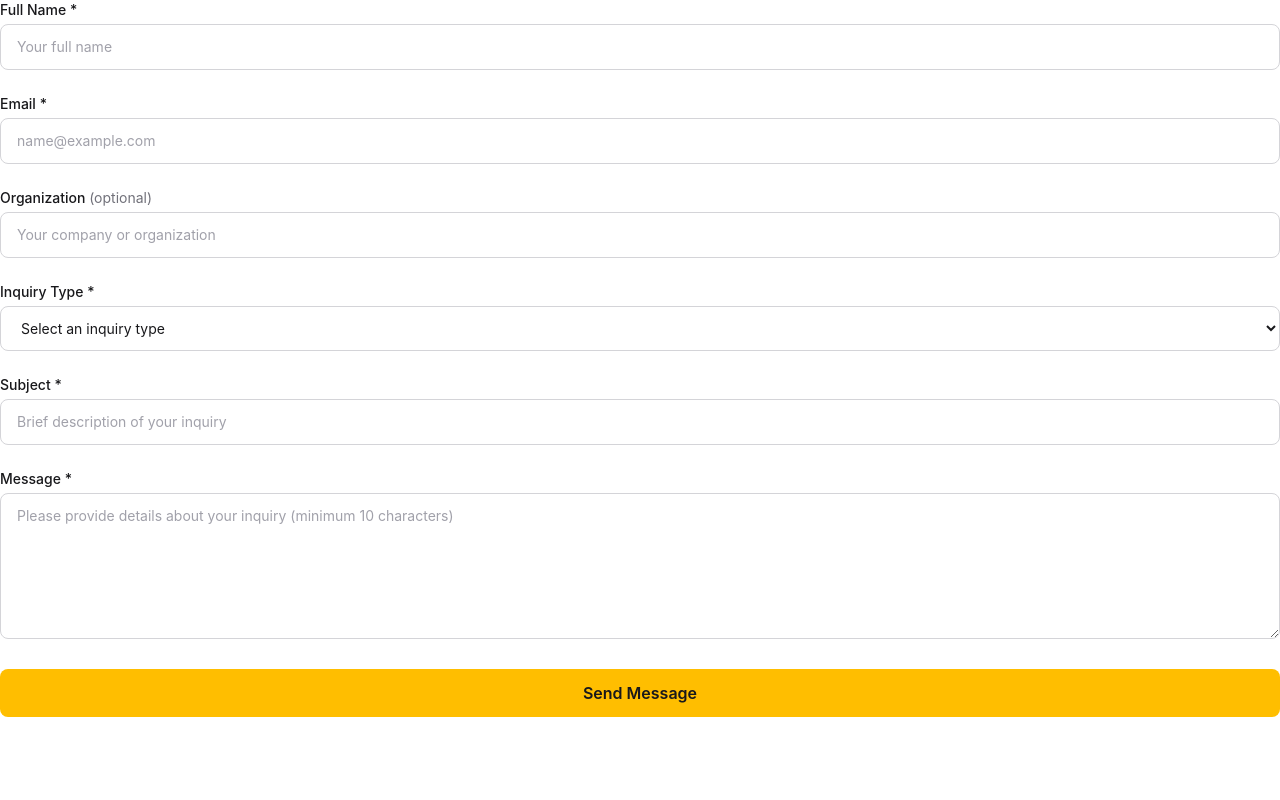
it: closes the success modal and resets the form
Type "Ada Lovelace" into the field labelled "Full Name *".
click(640, 47); type("Ada Lovelace")  # box [0,24,1279,70]
Type "ada@example.com" into the field labelled "Email *".
click(640, 141); type("ada@example.com")  # box [0,118,1279,164]
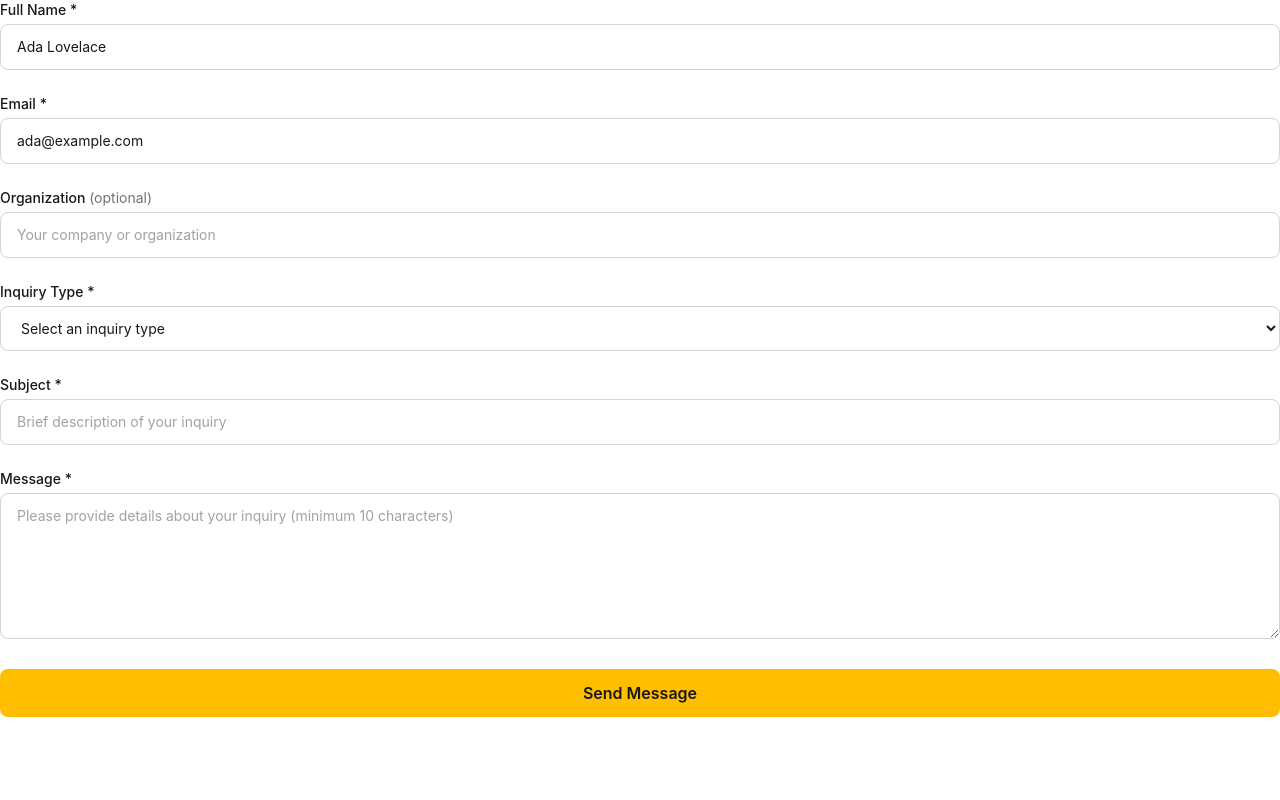
Select "General Inquiry" in the dropdown labelled "Inquiry Type *" at (640, 328), box [0,306,1279,351]
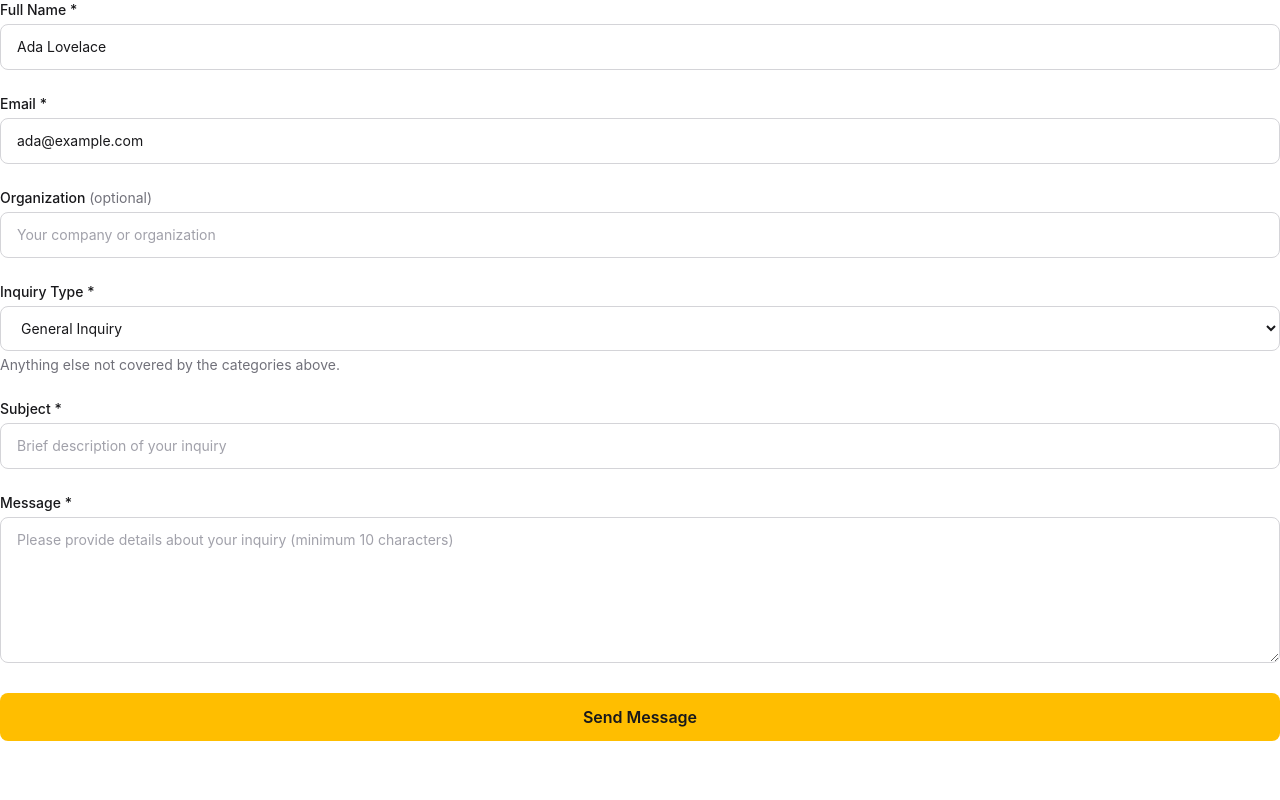
Type "Hi" into the field labelled "Subject *".
click(640, 446); type("Hi")  # box [0,423,1279,469]
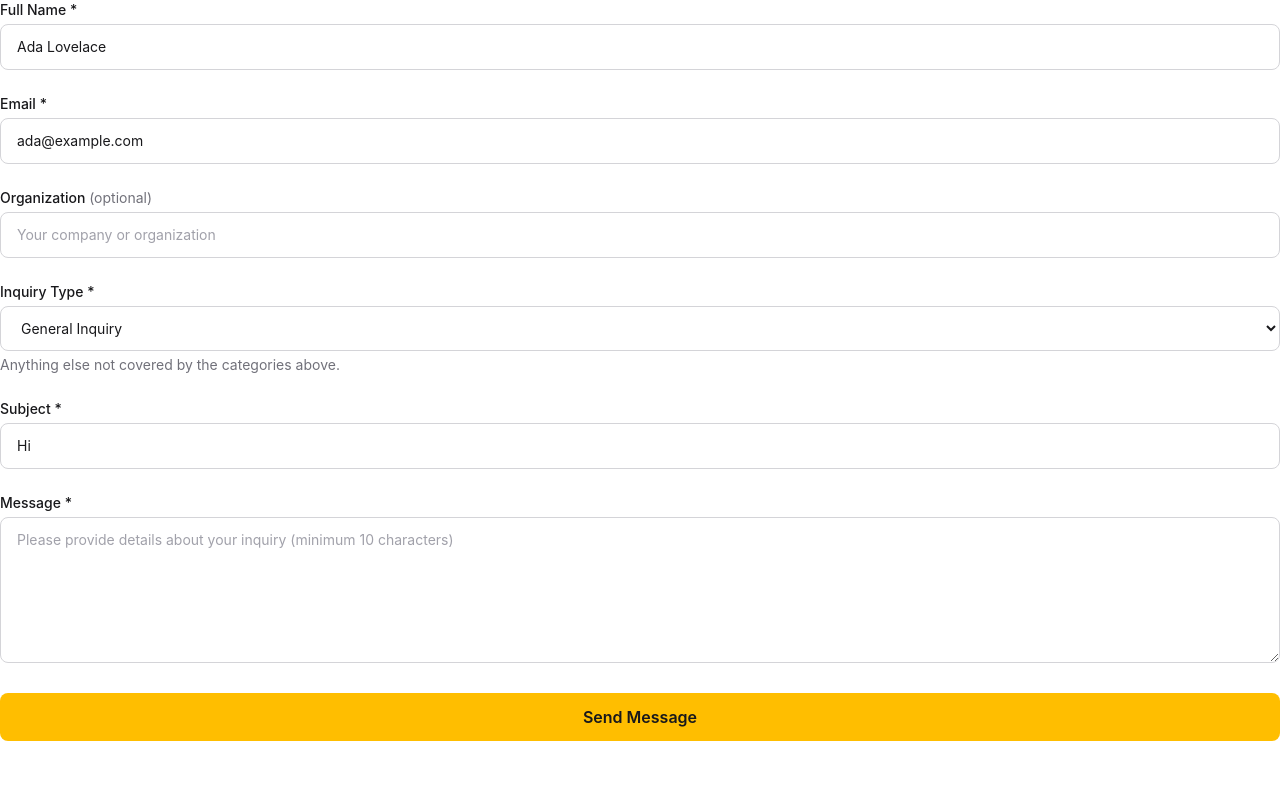
Replace the text in the text box labelled "Message *" with "This is a long enough message." at (640, 590), box [0,517,1279,663]
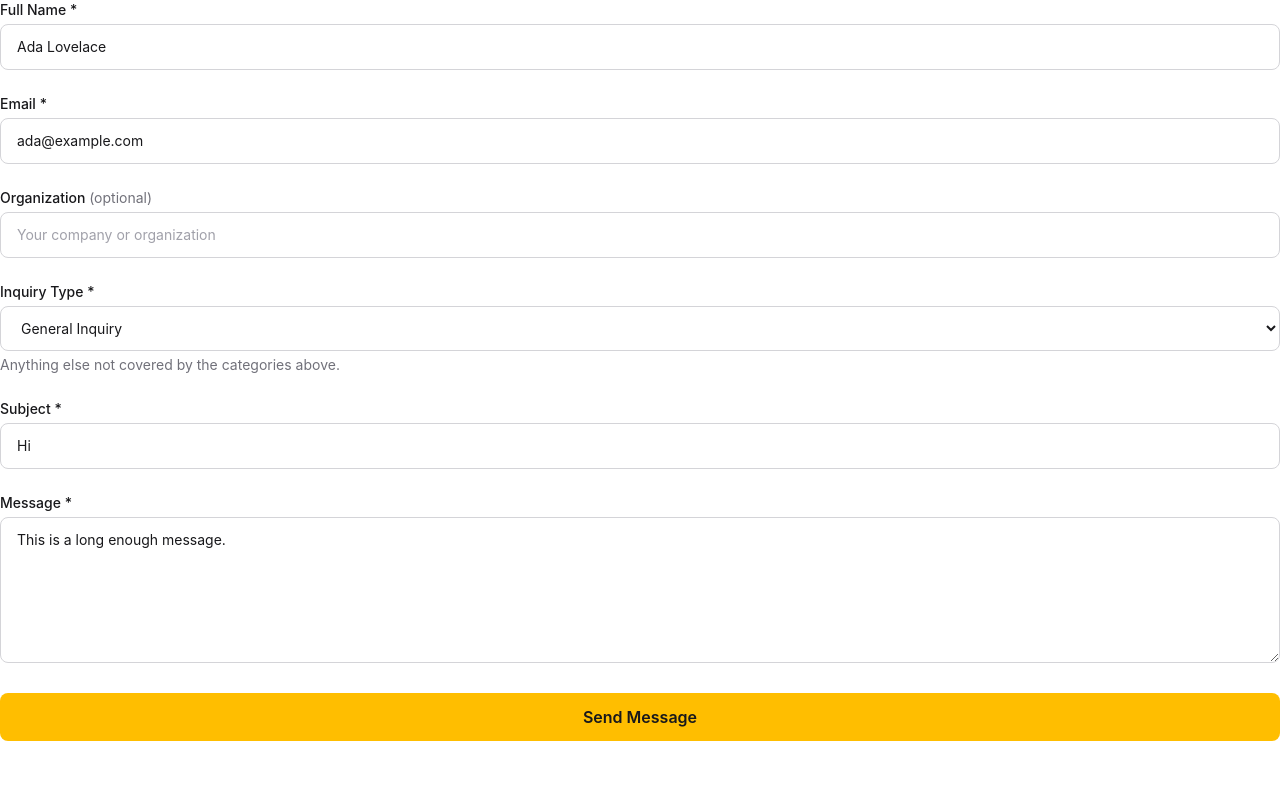
Click the button "Send Message".
click(640, 717)  # box [0,693,1279,741]
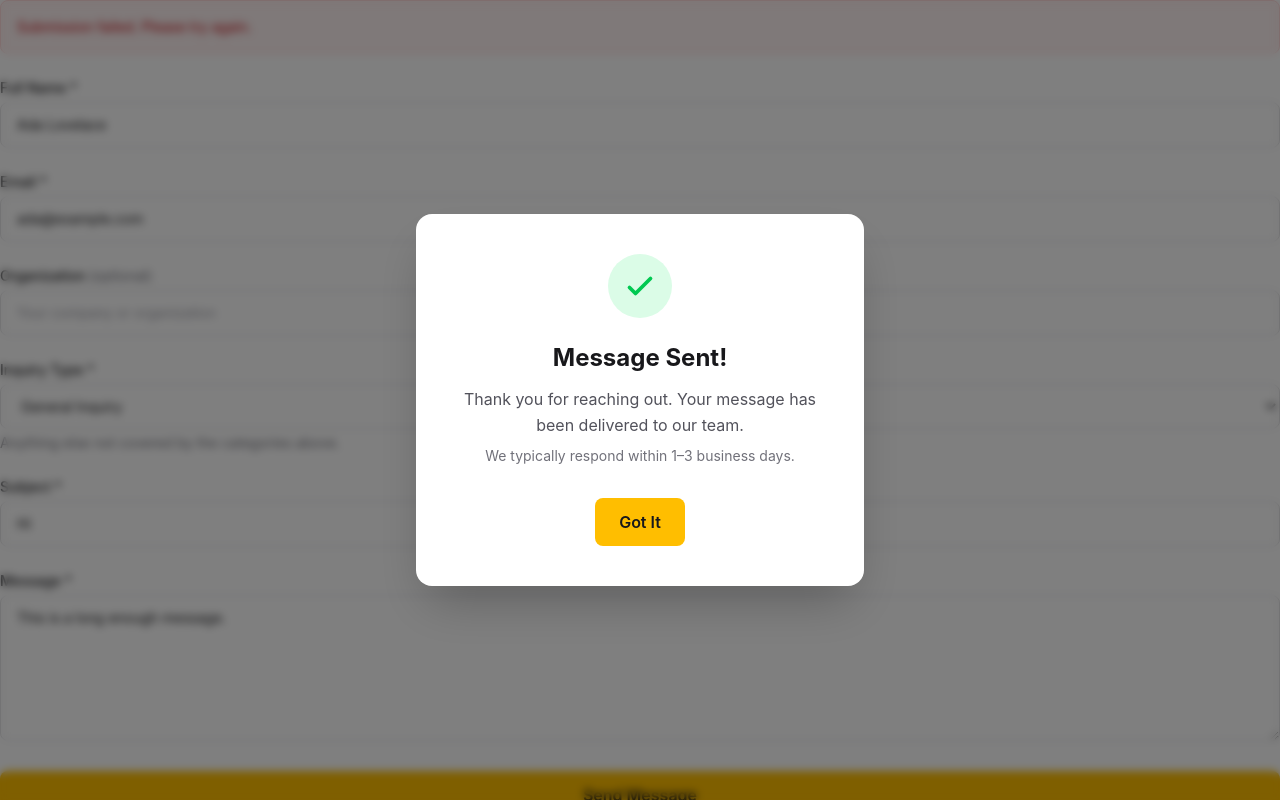
Expected: the heading "Message Sent!" is shown, [553,343,727,372]
Click the button "Got It".
click(640, 522)  # box [595,498,685,546]
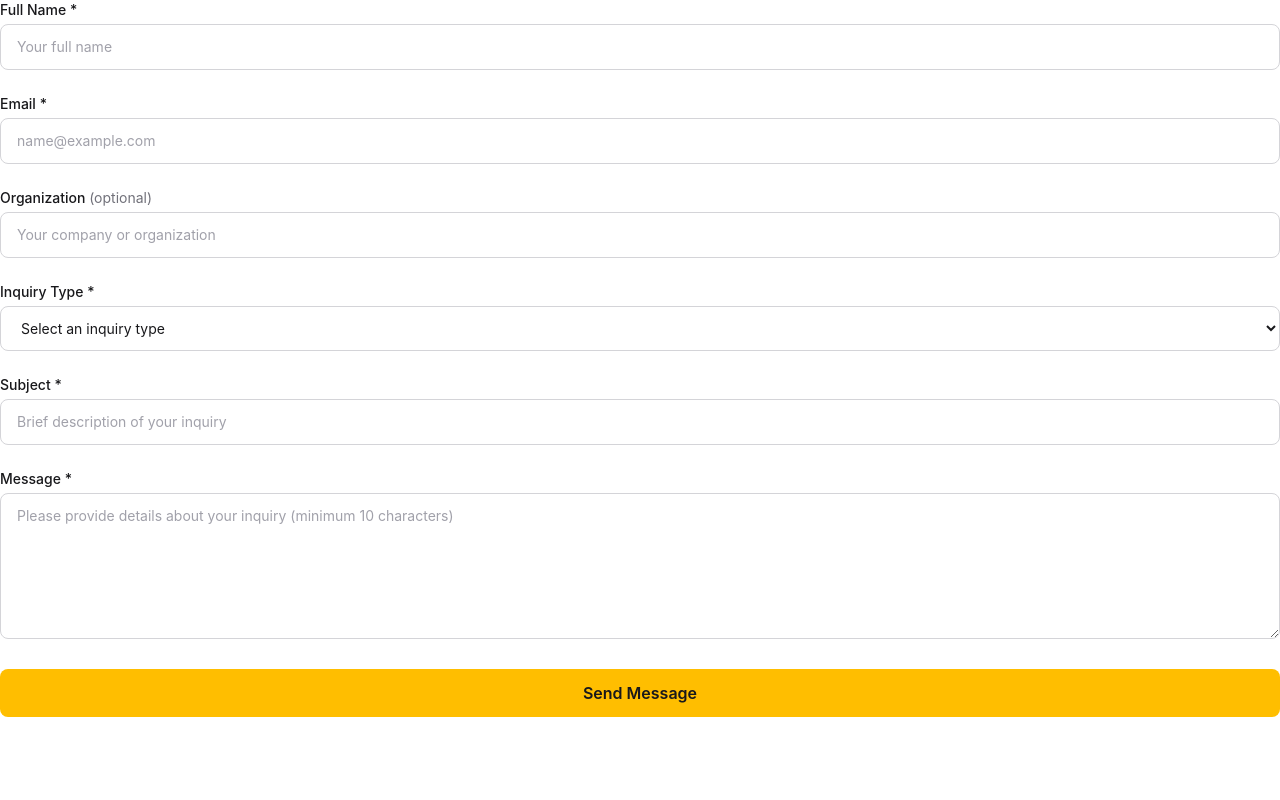
Expected: the heading "Message Sent!" is gone
Expected: the field labelled "Full Name *" is empty, [0,24,1279,70]
